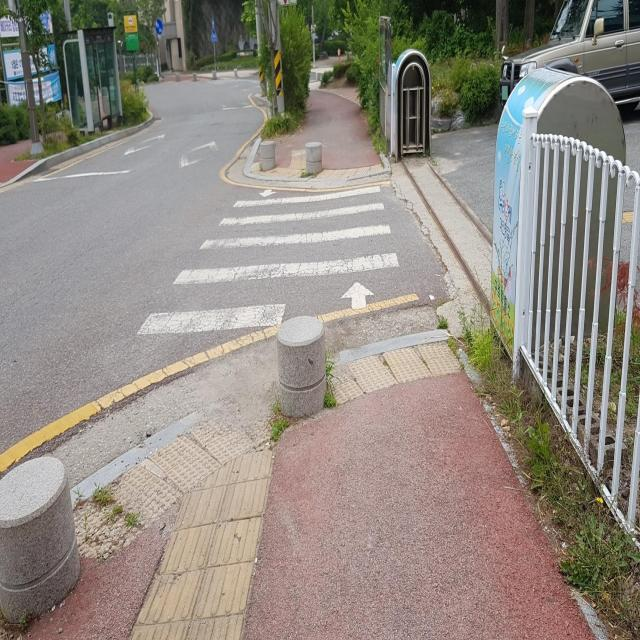횡단보도: (135, 182, 401, 339)
